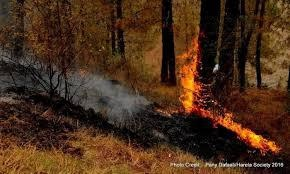fire: (146, 26, 280, 162)
